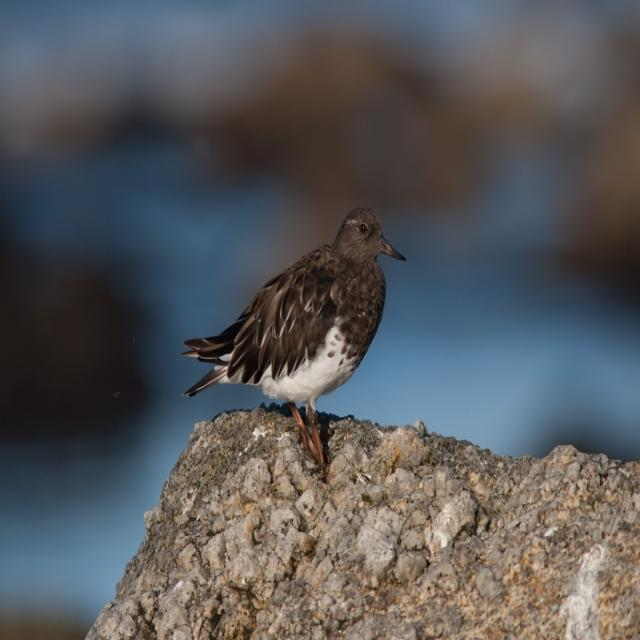bird: (183, 207, 408, 448)
